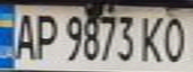3: (115, 12, 139, 63)
7: (97, 11, 118, 62)
8: (78, 11, 103, 62)
9: (60, 11, 84, 62)
A: (9, 9, 39, 61)
K: (136, 12, 169, 63)
O: (160, 12, 190, 64)
P: (30, 10, 60, 61)
